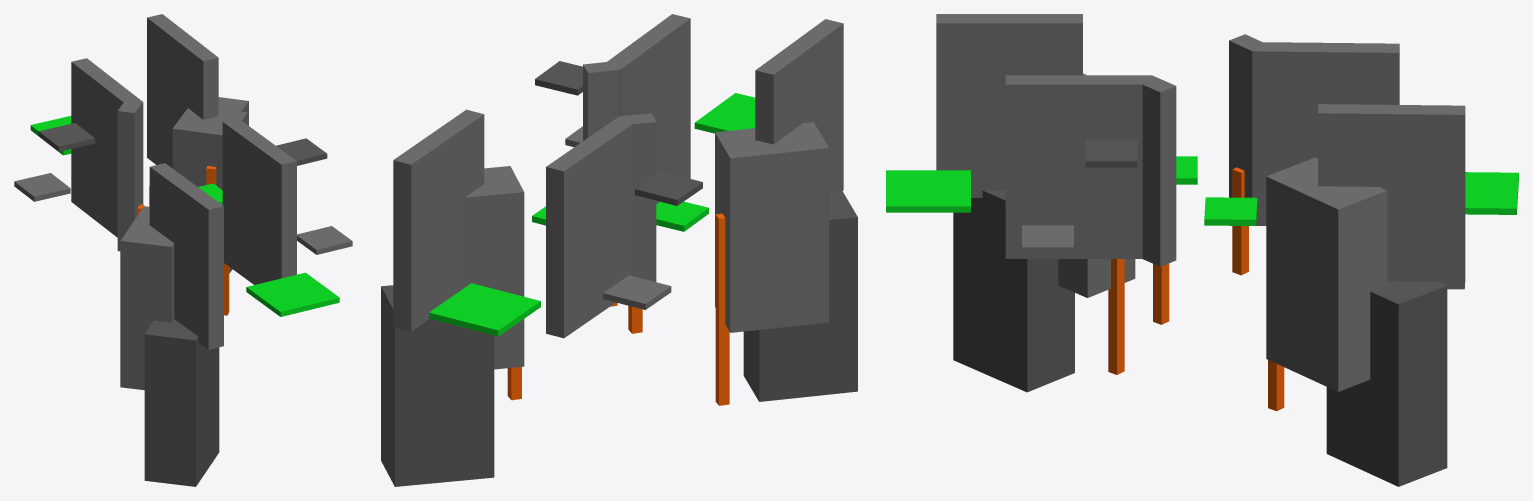
The model's file is stonelands.glb.
3 views of the same model, side by side, from view 1: azimuth 30°, elevation 25°; view 2: azimuth 150°, elevation 25°; view 3: azimuth 270°, elevation 25° (orthographic). The views are drawn at different scales.
Visible parts, largest first — view 1: map1; view 2: map1; view 3: map1.
Boxes of the visible parts, x1,y1,x2,y2 form: map1: [14, 14, 352, 486]; map1: [381, 14, 857, 486]; map1: [886, 14, 1518, 486].
Bounding box in the file's own units: 59.31 × 66.1 × 108.
